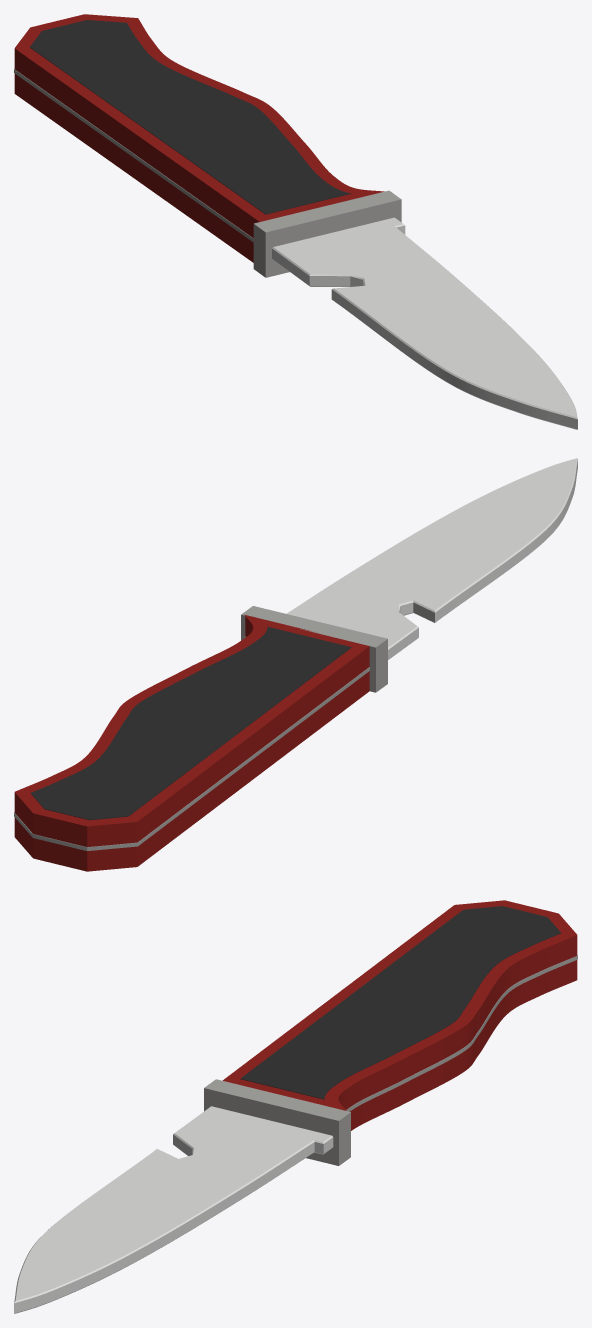
3 renders of one model, top to bottom at view 1: azimuth 30°, elevation 25°; view 2: azimuth 150°, elevation 25°; view 3: azimuth 330°, elevation 25°, orthographic.
Parts seen in each view (by area): view 1: knife; view 2: knife; view 3: knife.
Part boxes in pixels (bbox=[...]): knife: bbox=[14, 14, 577, 429]; knife: bbox=[14, 458, 577, 871]; knife: bbox=[14, 900, 577, 1313].
Size of the model in its own units: 0.045 by 0.0147 by 0.2991.
